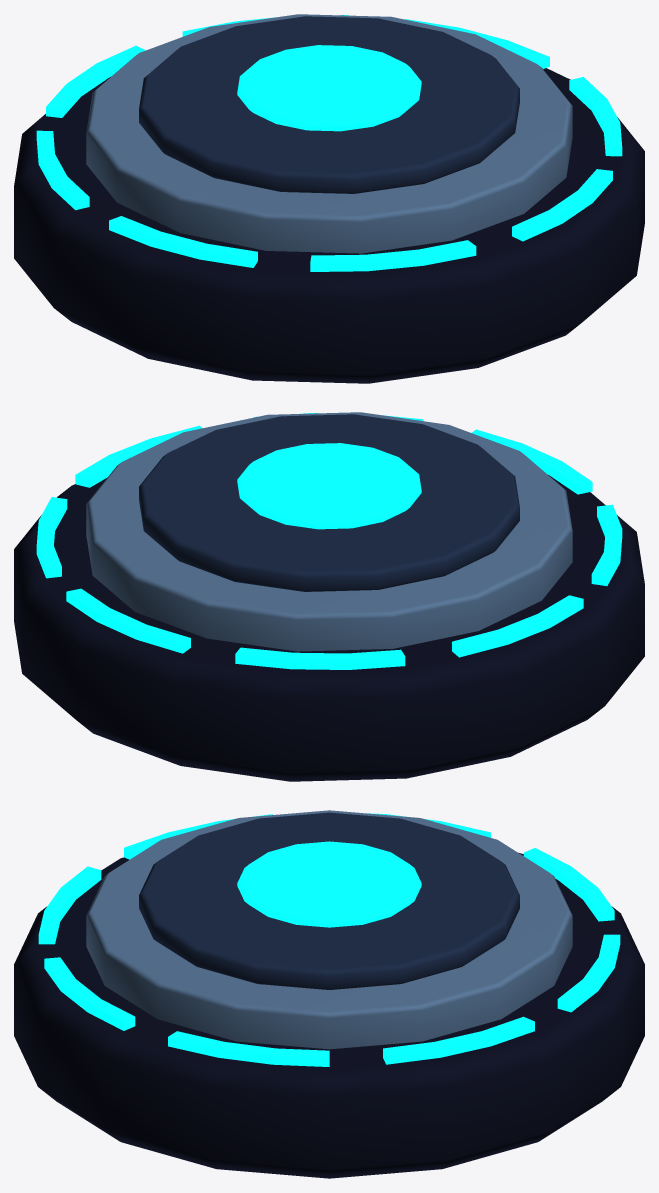
File: NT_Mine_Cyan.fbx
3 renders of one model, top to bottom at view 1: azimuth 30°, elevation 25°; view 2: azimuth 150°, elevation 25°; view 3: azimuth 270°, elevation 25°, orthographic.
Visible parts, largest first — view 1: NT_Mine_Cyan__PickupMesh; view 2: NT_Mine_Cyan__PickupMesh; view 3: NT_Mine_Cyan__PickupMesh.
Part boxes in pixels (box(x1,y1,x2,y2)): NT_Mine_Cyan__PickupMesh: box(14, 14, 644, 383); NT_Mine_Cyan__PickupMesh: box(14, 412, 644, 781); NT_Mine_Cyan__PickupMesh: box(14, 810, 644, 1178).
Size of the model in its own units: 0.96 by 0.295 by 0.96.
